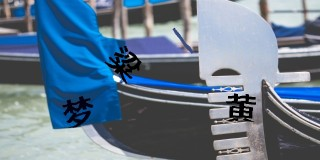一: (171, 26, 193, 54)
梦: (62, 95, 93, 129)
粱: (105, 45, 142, 84)
黄: (224, 93, 257, 122)
